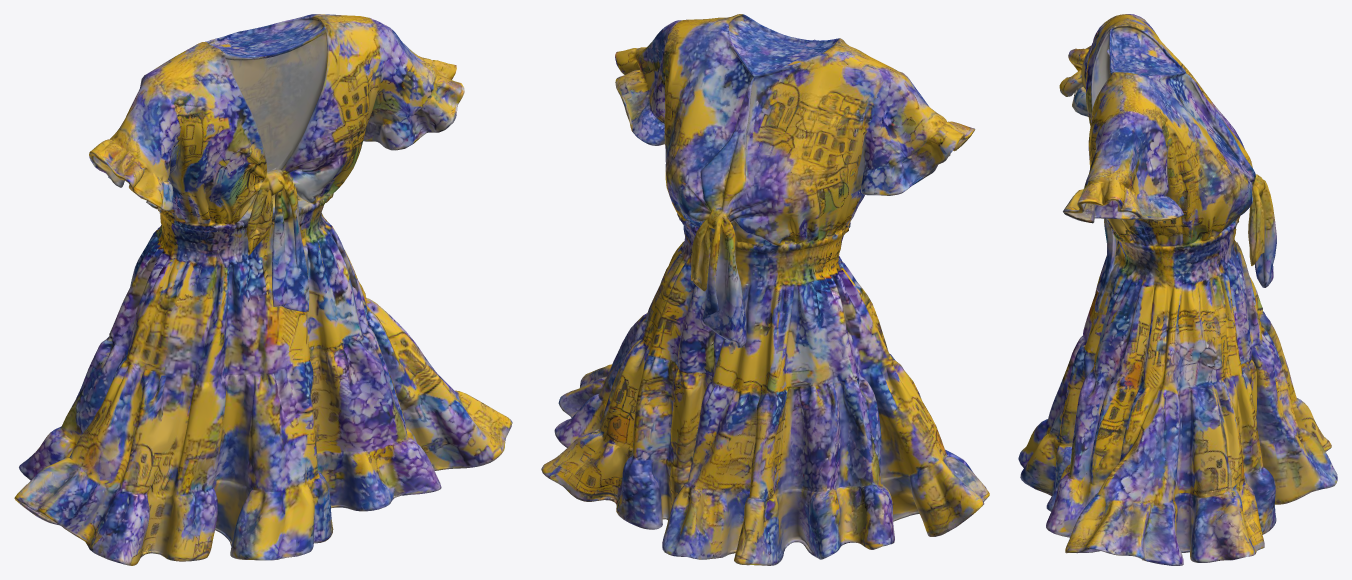
The model's file is floral dress 3d model.glb.
3 renders of one model, left to right at view 1: azimuth 30°, elevation 25°; view 2: azimuth 150°, elevation 25°; view 3: azimuth 270°, elevation 25°, orthographic. The views are drawn at different scales.
Visible parts, largest first — view 1: tripo_node_b339290a-a2d7-4d1b-8827-3ca4e826f6c9; view 2: tripo_node_b339290a-a2d7-4d1b-8827-3ca4e826f6c9; view 3: tripo_node_b339290a-a2d7-4d1b-8827-3ca4e826f6c9.
Boxes of the visible parts, bbox=[...] form: tripo_node_b339290a-a2d7-4d1b-8827-3ca4e826f6c9: bbox=[14, 14, 512, 565]; tripo_node_b339290a-a2d7-4d1b-8827-3ca4e826f6c9: bbox=[541, 14, 989, 565]; tripo_node_b339290a-a2d7-4d1b-8827-3ca4e826f6c9: bbox=[1018, 14, 1337, 565].
Size of the model in its own units: 0.9626 by 0.9797 by 0.6294.
1 material, 1 textured.
